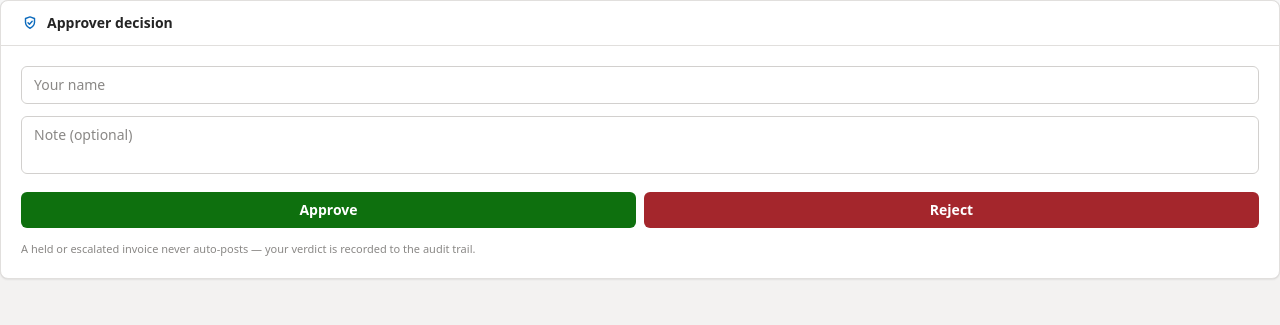
Test: DecisionPanel › requires a reviewer name before posting
This screenshot has width=1280, height=325.
What coordinates should you click on to do the following:
click the button "Approve"
I would click on:
 (328, 210)
Its box is [21,192,636,228].
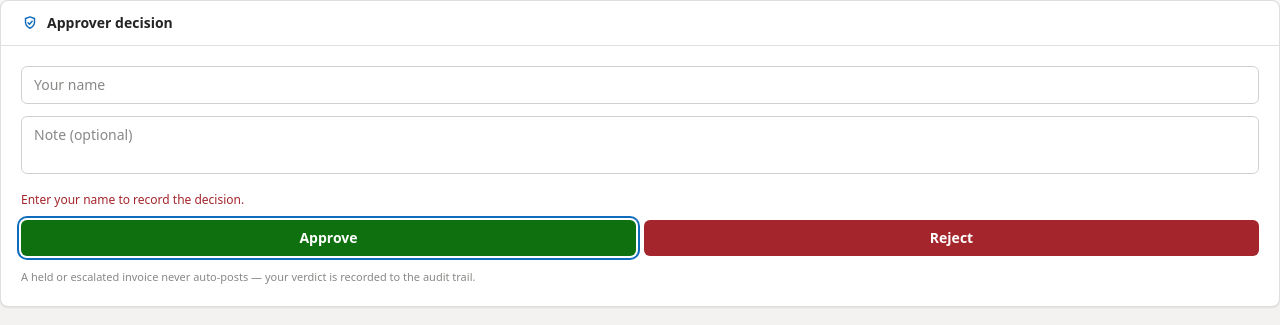
Now the text "Enter your name to record the decision." is shown, box [21,191,244,208]
